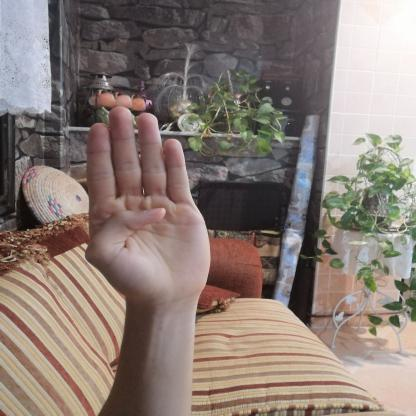KAAF: (62, 95, 238, 319)
